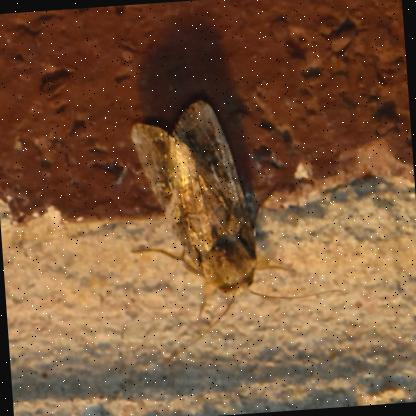Fall Armyworm Moth: (116, 86, 350, 374)
